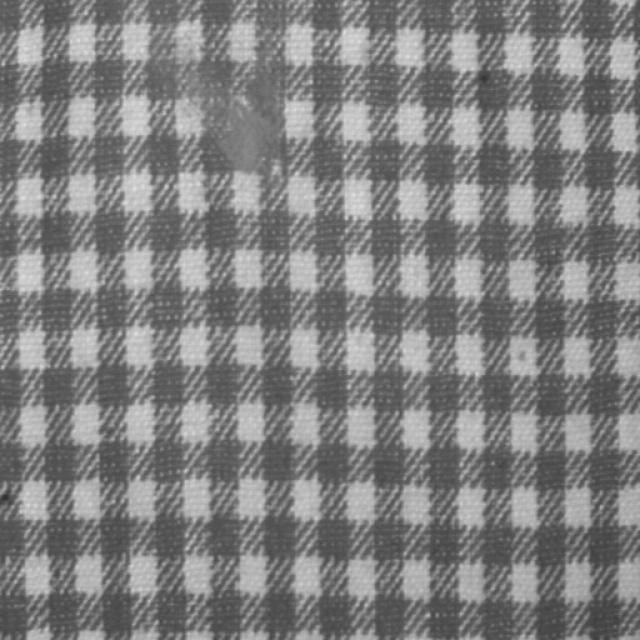Stain-Defect: (209, 94, 280, 172)
